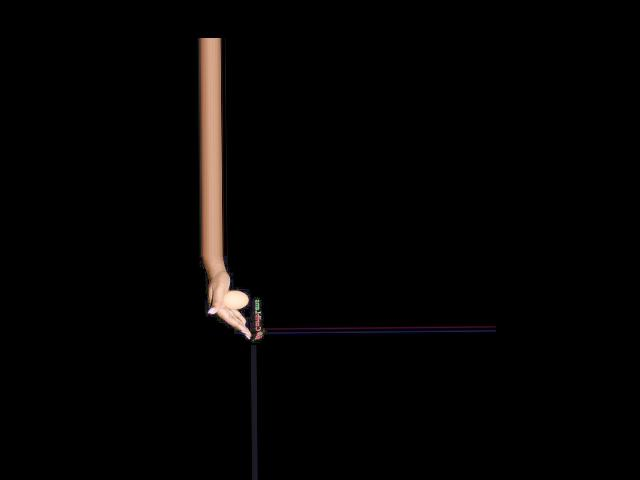egg: (222, 289, 248, 309)
